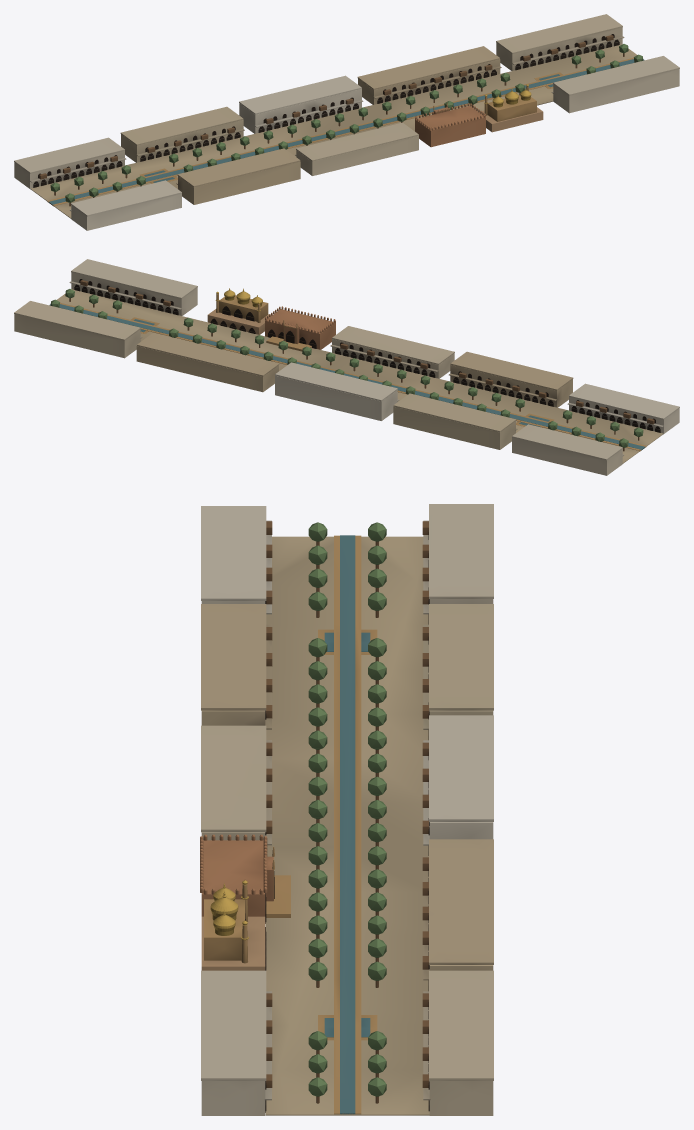
The model's file is chandni-chowk-1850.glb.
3 renders of one model, top to bottom at view 1: azimuth 30°, elevation 25°; view 2: azimuth 150°, elevation 25°; view 3: azimuth 270°, elevation 25°, orthographic. The views are drawn at different scales.
Visible parts, largest first — view 1: p2_shops, p0_street, p1_trees, p3_domes; view 2: p2_shops, p0_street, p1_trees, p3_domes; view 3: p2_shops, p0_street, p1_trees, p3_domes.
Boxes of the visible parts, x1=… form: p2_shops: x1=14, y1=14, x2=679, y2=230; p0_street: x1=30, y1=44, x2=644, y2=218; p1_trees: x1=50, y1=44, x2=643, y2=206; p3_domes: x1=484, y1=84, x2=531, y2=115; p2_shops: x1=14, y1=259, x2=679, y2=475; p0_street: x1=49, y1=289, x2=663, y2=463; p1_trees: x1=50, y1=289, x2=643, y2=451; p3_domes: x1=215, y1=288, x2=262, y2=322; p2_shops: x1=200, y1=504, x2=493, y2=1115; p0_street: x1=265, y1=535, x2=429, y2=1115; p1_trees: x1=308, y1=522, x2=386, y2=1103; p3_domes: x1=210, y1=880, x2=248, y2=963.
Size of the model in its own units: 300 by 16.38 by 64.55.
